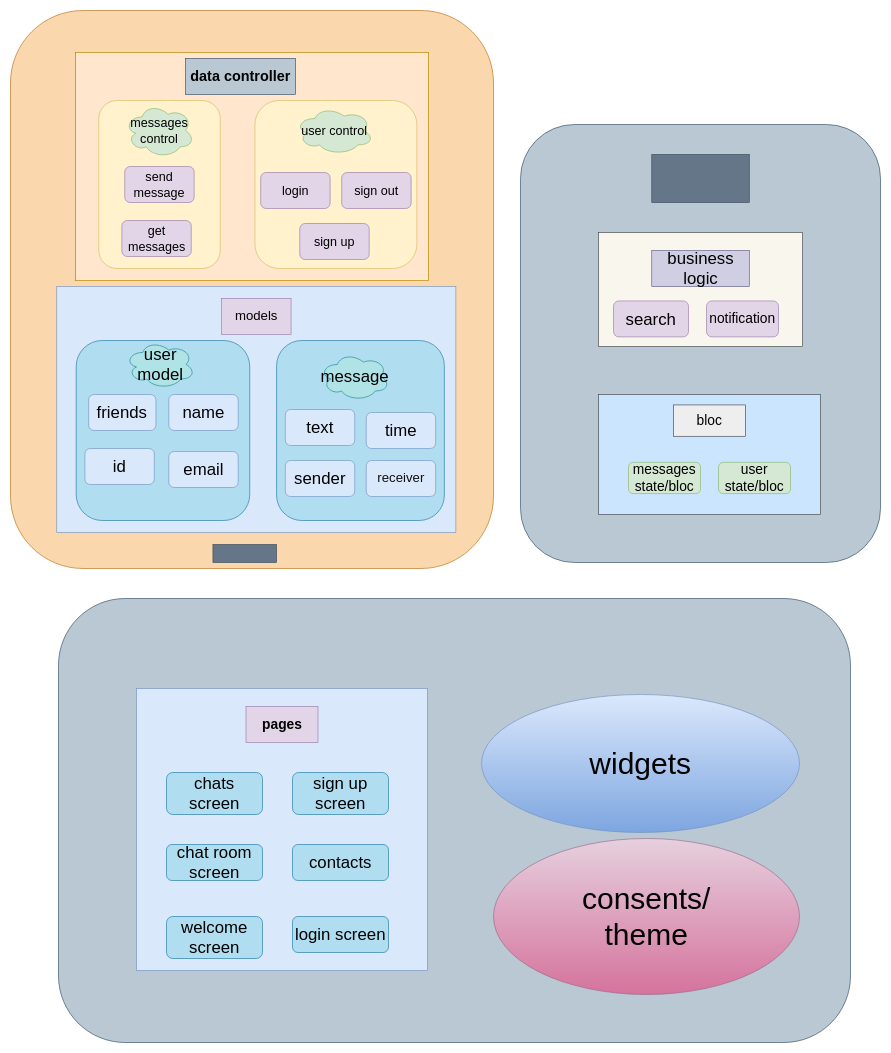
Image size: 891x1053. Some labels were removed from this diagram. Each missing label, with the centre of its shape:
data: point 244,553
domain: point 700,178
